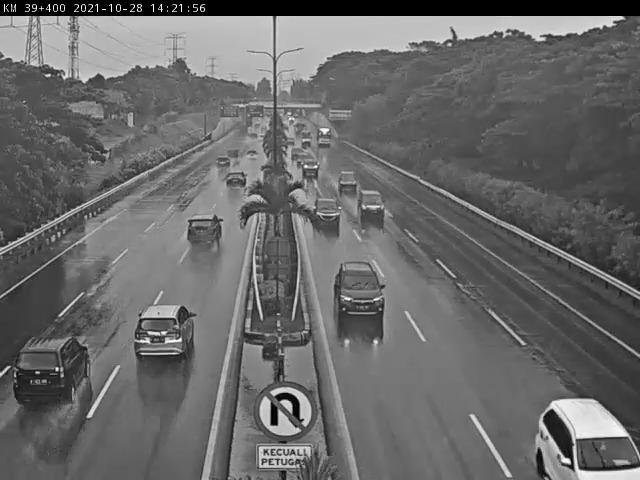car: (525, 378, 640, 480), (9, 326, 101, 417), (129, 303, 200, 367), (327, 259, 386, 319), (186, 211, 225, 251), (310, 192, 344, 230), (357, 188, 385, 218), (221, 169, 249, 192), (337, 168, 363, 192), (299, 154, 319, 175), (211, 154, 231, 168)
